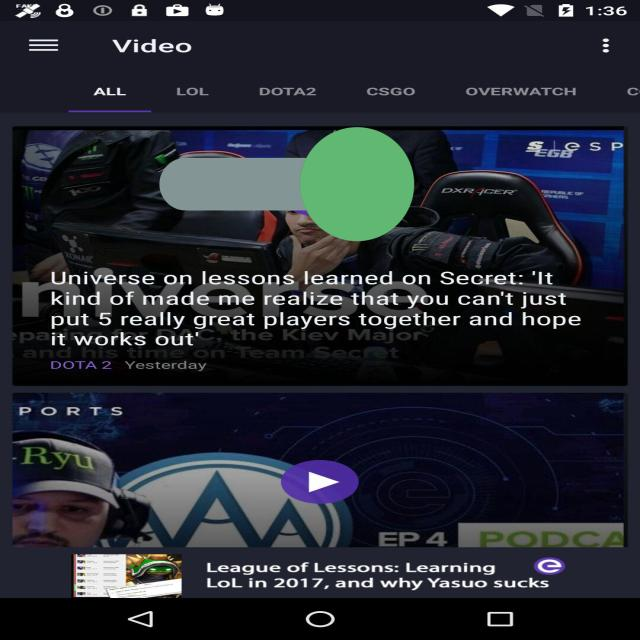social proof: (160, 57, 414, 311)
